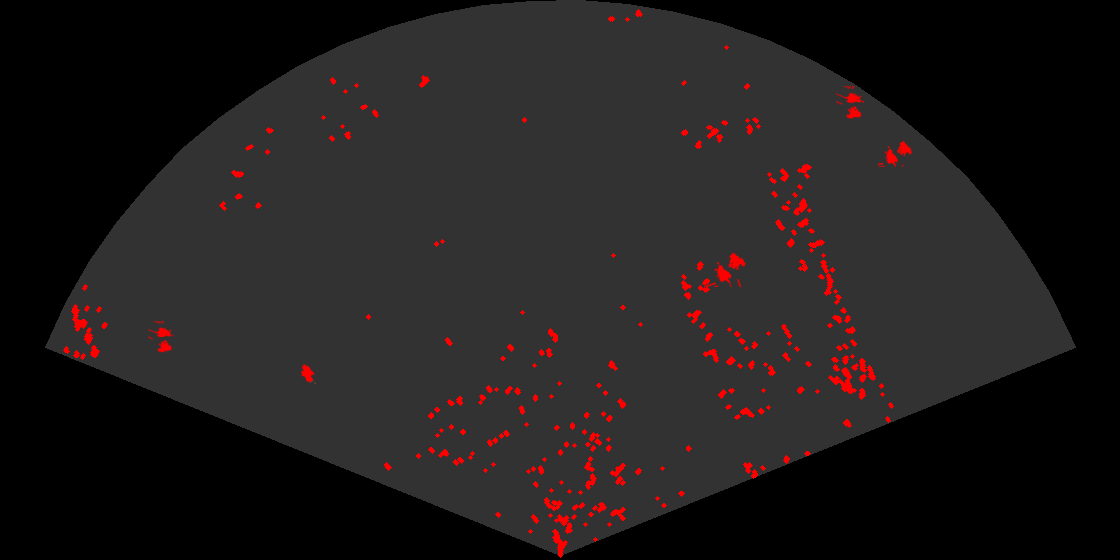AUV: (299, 362, 318, 386)
cage: (704, 251, 748, 287), (836, 86, 866, 120), (878, 139, 914, 167), (148, 321, 175, 354)
